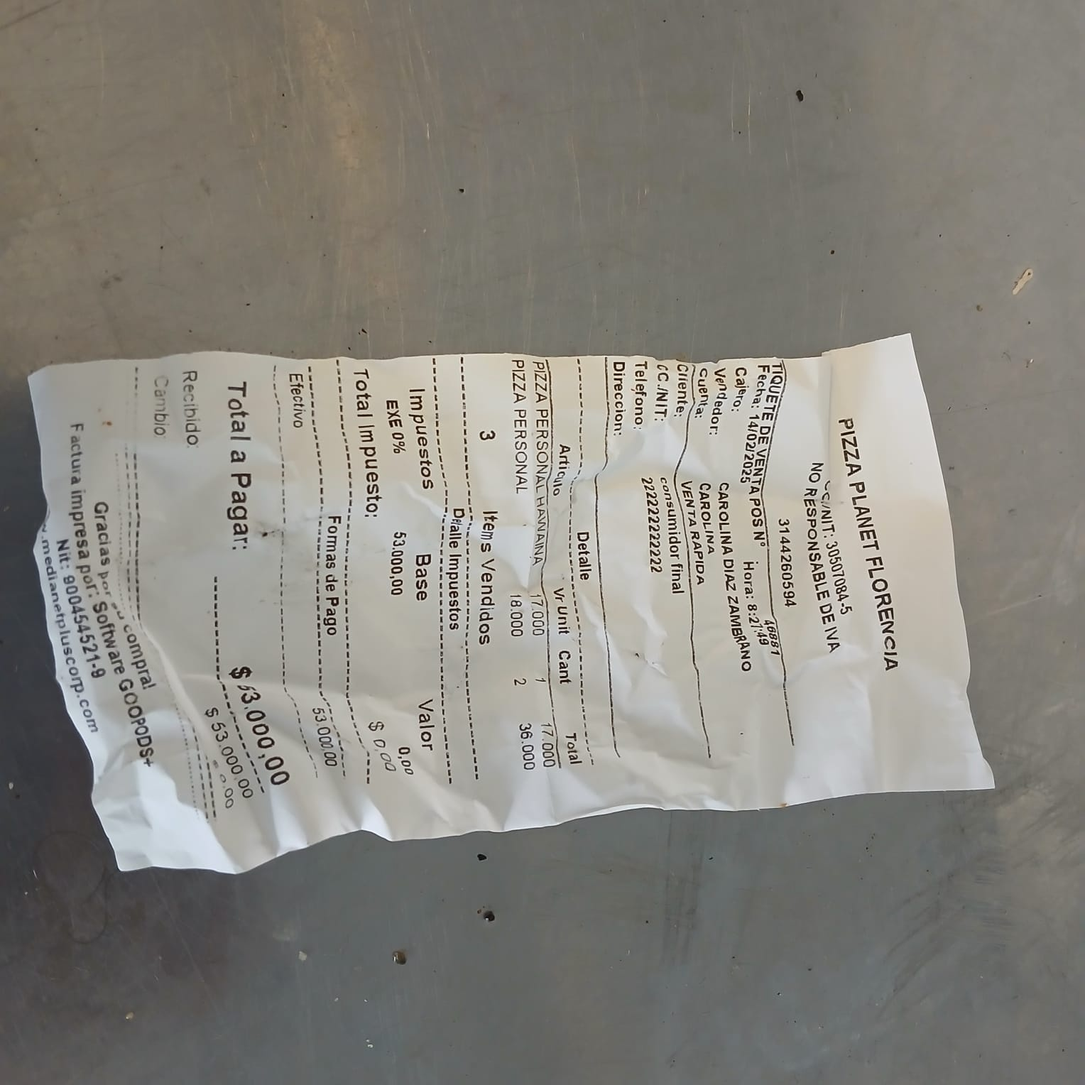Papel: (27, 334, 1002, 876)
